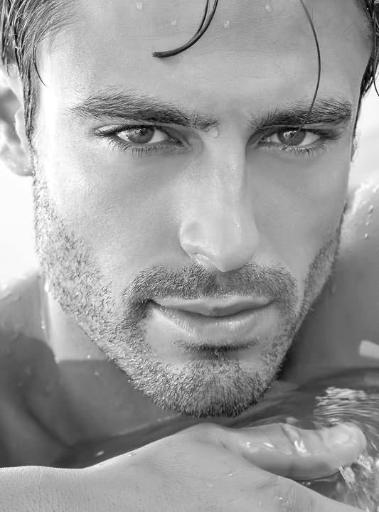left_eye: (256, 119, 330, 156)
left_lip_corner: (257, 292, 281, 320)
right_eye: (90, 119, 191, 160)
right_lip_corner: (141, 293, 169, 322)
